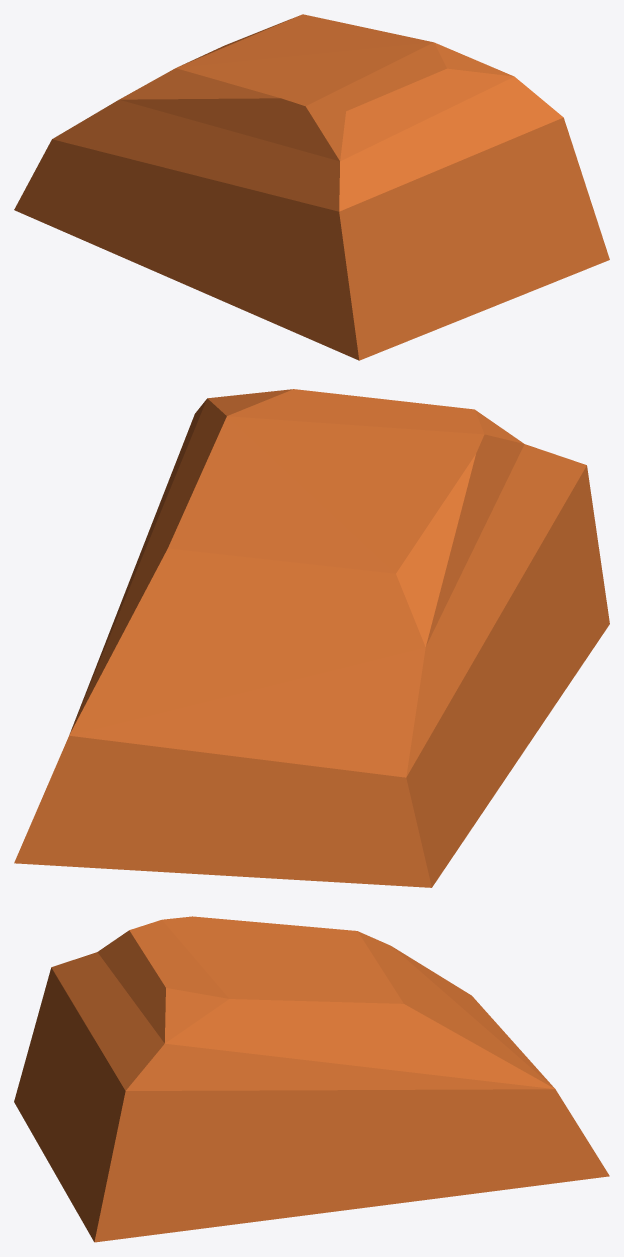
File: Rock_Mountant3.fbx
3 renders of one model, top to bottom at view 1: azimuth 30°, elevation 25°; view 2: azimuth 150°, elevation 25°; view 3: azimuth 270°, elevation 25°, orthographic. The views are drawn at different scales.
Visible parts, largest first — view 1: Rock_Mountant3; view 2: Rock_Mountant3; view 3: Rock_Mountant3.
Part boxes in pixels (x1,y1,x2,y2): Rock_Mountant3: (14, 14, 609, 360); Rock_Mountant3: (14, 389, 609, 887); Rock_Mountant3: (14, 916, 609, 1242).
Size of the model in its own units: 1897 by 896 by 2501.
